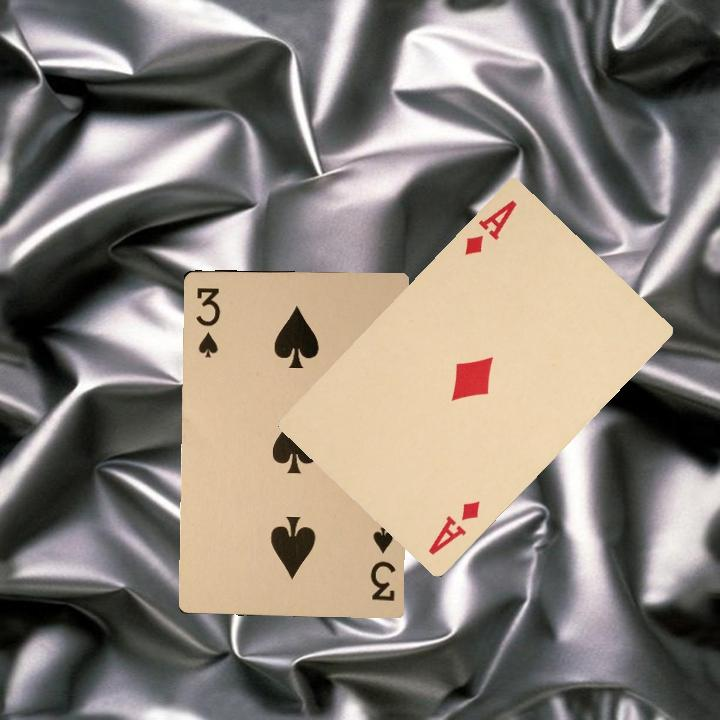3s: (366, 524, 398, 603), (192, 284, 223, 360)
Ad: (460, 196, 520, 258), (424, 496, 483, 558)
